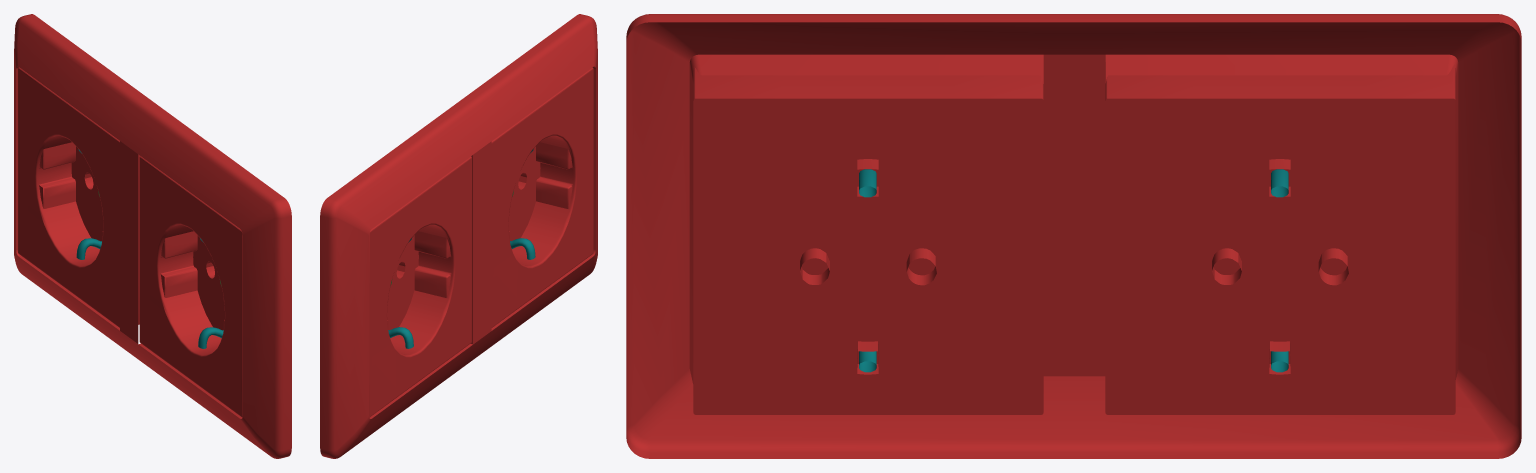
The model's file is SM_Socket_006.fbx.
3 renders of one model, left to right at view 1: azimuth 30°, elevation 25°; view 2: azimuth 150°, elevation 25°; view 3: azimuth 270°, elevation 25°, orthographic. The views are drawn at different scales.
Visible parts, largest first — view 1: SM_Socket_006; view 2: SM_Socket_006; view 3: SM_Socket_006.
Boxes of the visible parts, left/top/right/bottom form: SM_Socket_006: left=14, top=14, right=291, bottom=458; SM_Socket_006: left=320, top=14, right=597, bottom=458; SM_Socket_006: left=626, top=14, right=1521, bottom=458.
Bounding box in the file's own units: 2.3 × 8.05 × 14.96.
